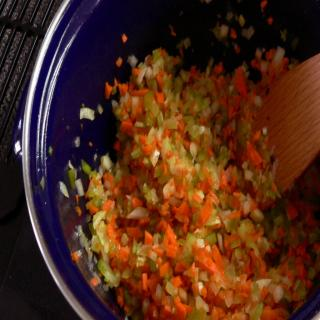Salad: (61, 4, 320, 320)
